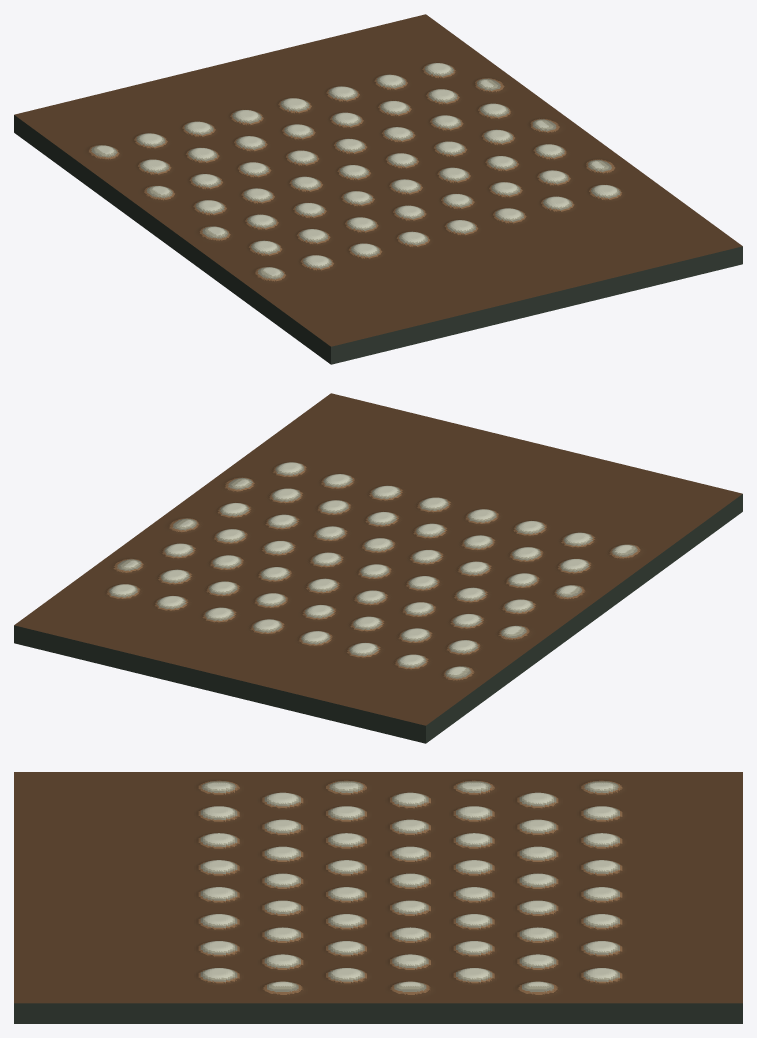
Rendered from caster_stress_staggered_l2.dae.
3 views of the same model, one above another, from view 1: azimuth 30°, elevation 25°; view 2: azimuth 150°, elevation 25°; view 3: azimuth 270°, elevation 25° (orthographic). The views are drawn at different scales.
Visible parts, largest first — view 1: terrain_node; view 2: terrain_node; view 3: terrain_node.
Boxes of the visible parts, x1,y1,x2,y2 form: terrain_node: [14, 14, 742, 364]; terrain_node: [14, 393, 742, 743]; terrain_node: [14, 772, 742, 1023].
Size of the model in its own units: 6 by 8 by 0.305.
